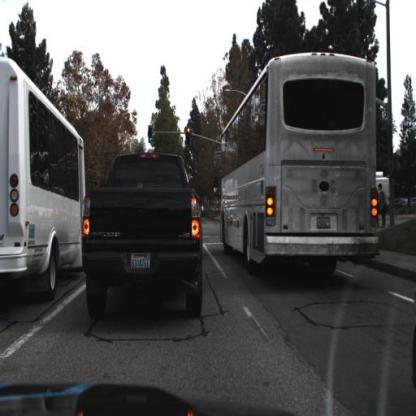car: (85, 152, 204, 315)
pedestrian: (378, 184, 389, 229)
trafficLight: (148, 125, 154, 147), (186, 129, 191, 144)
trafficLight-Red: (185, 127, 193, 147)
truck: (219, 50, 382, 275), (1, 62, 85, 298)
